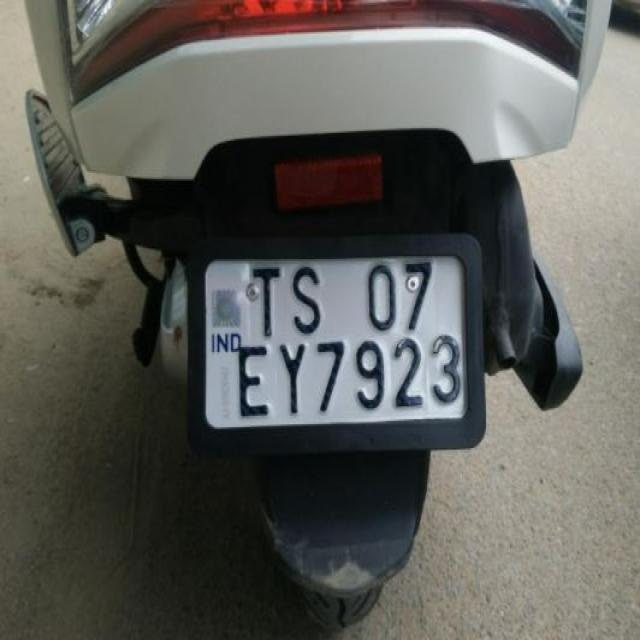license_plate: (186, 232, 486, 453)
